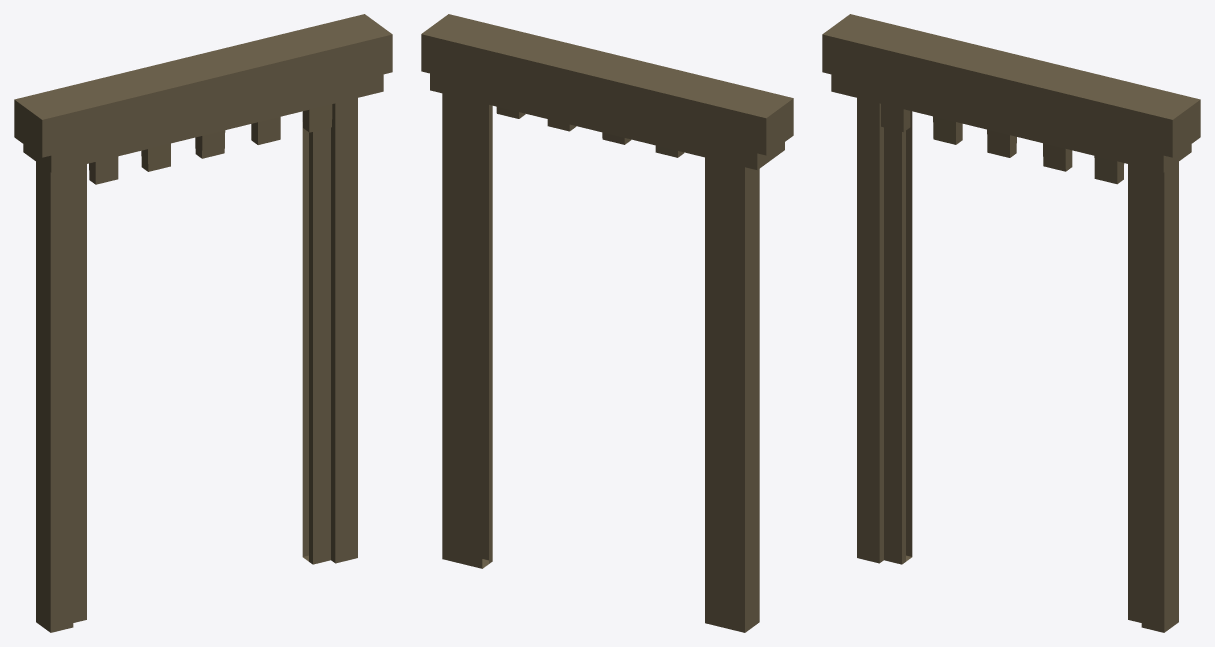
File: Door_Frame_teeth.fbx
The picture shows the model from 3 angles, left to right: view 1: azimuth 30°, elevation 25°; view 2: azimuth 150°, elevation 25°; view 3: azimuth 330°, elevation 25°; orthographic projection.
Visible parts, largest first — view 1: Door_Frame_teeth; view 2: Door_Frame_teeth; view 3: Door_Frame_teeth.
Part boxes in pixels (left/top/right/bottom): Door_Frame_teeth: left=14, top=14, right=392, bottom=632; Door_Frame_teeth: left=421, top=14, right=793, bottom=632; Door_Frame_teeth: left=822, top=14, right=1200, bottom=632.
Size of the model in its own units: 7.76 by 11.16 by 1.07.
